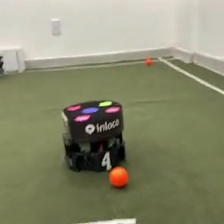ball: (108, 165, 129, 190), (145, 56, 153, 65)
robot: (60, 98, 130, 173)
